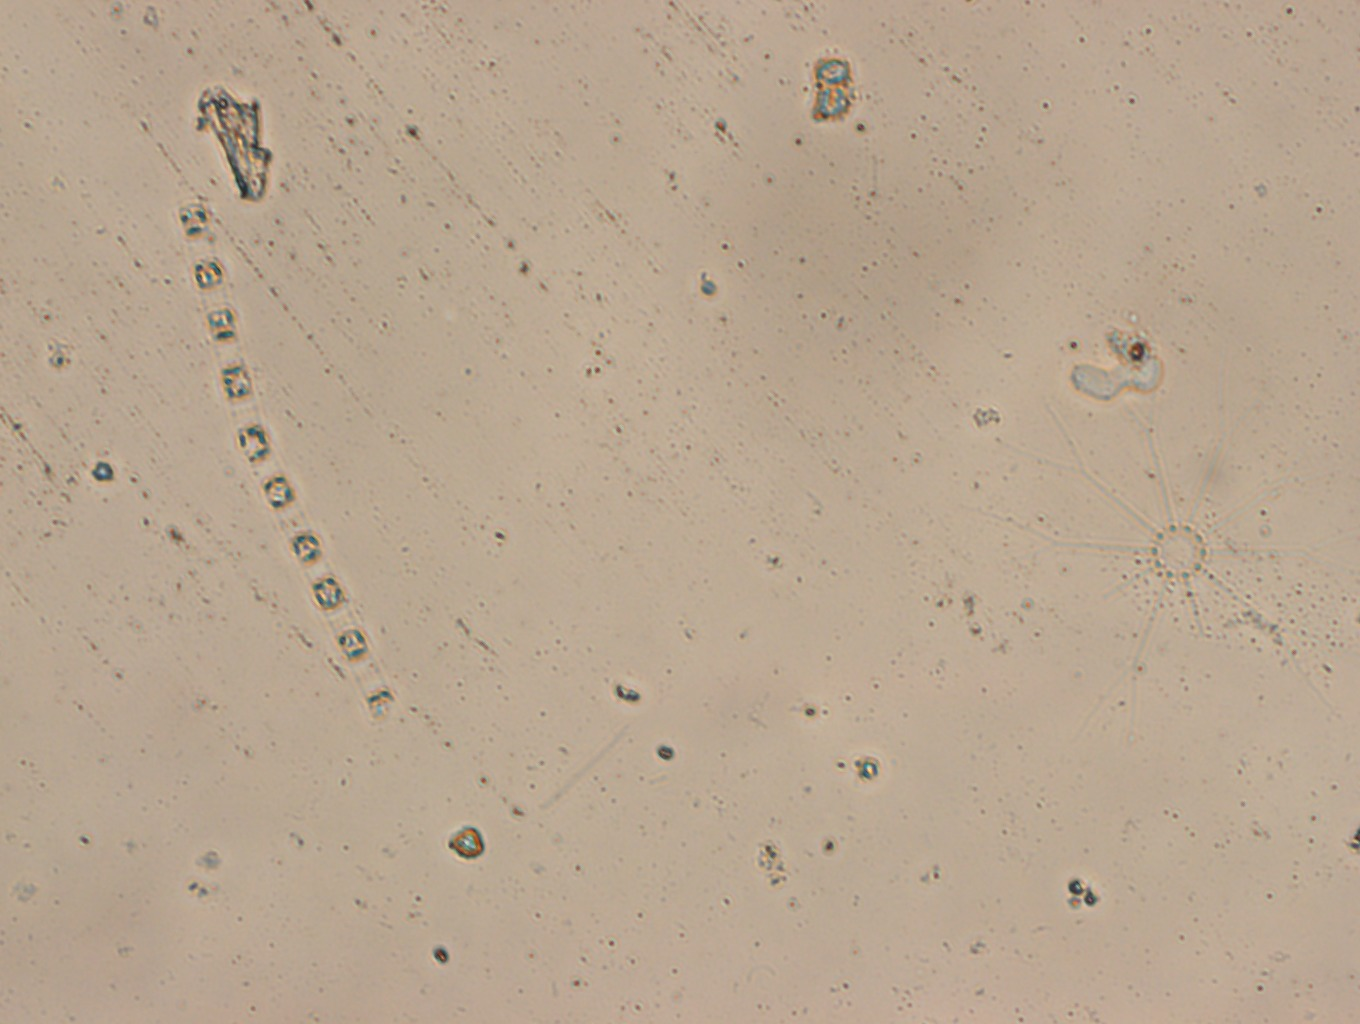bacteriastrum: (963, 342, 1360, 765)
skeletonema: (238, 433, 395, 719), (172, 205, 270, 461)
